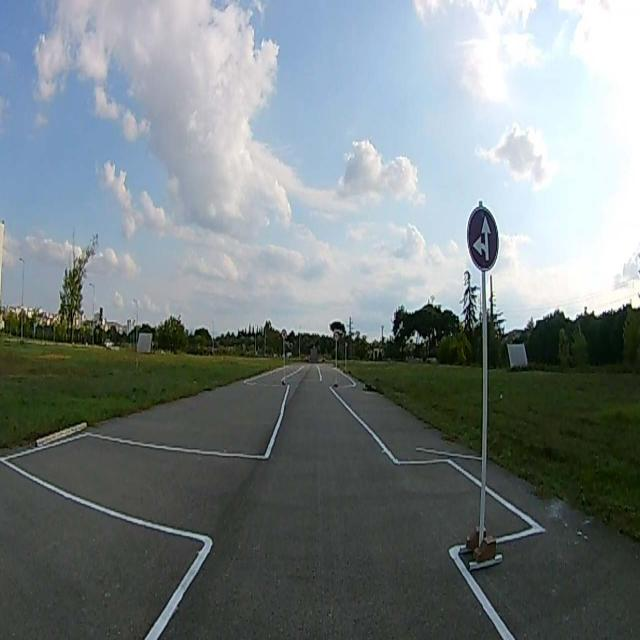ilerisol: (466, 206, 499, 270)
